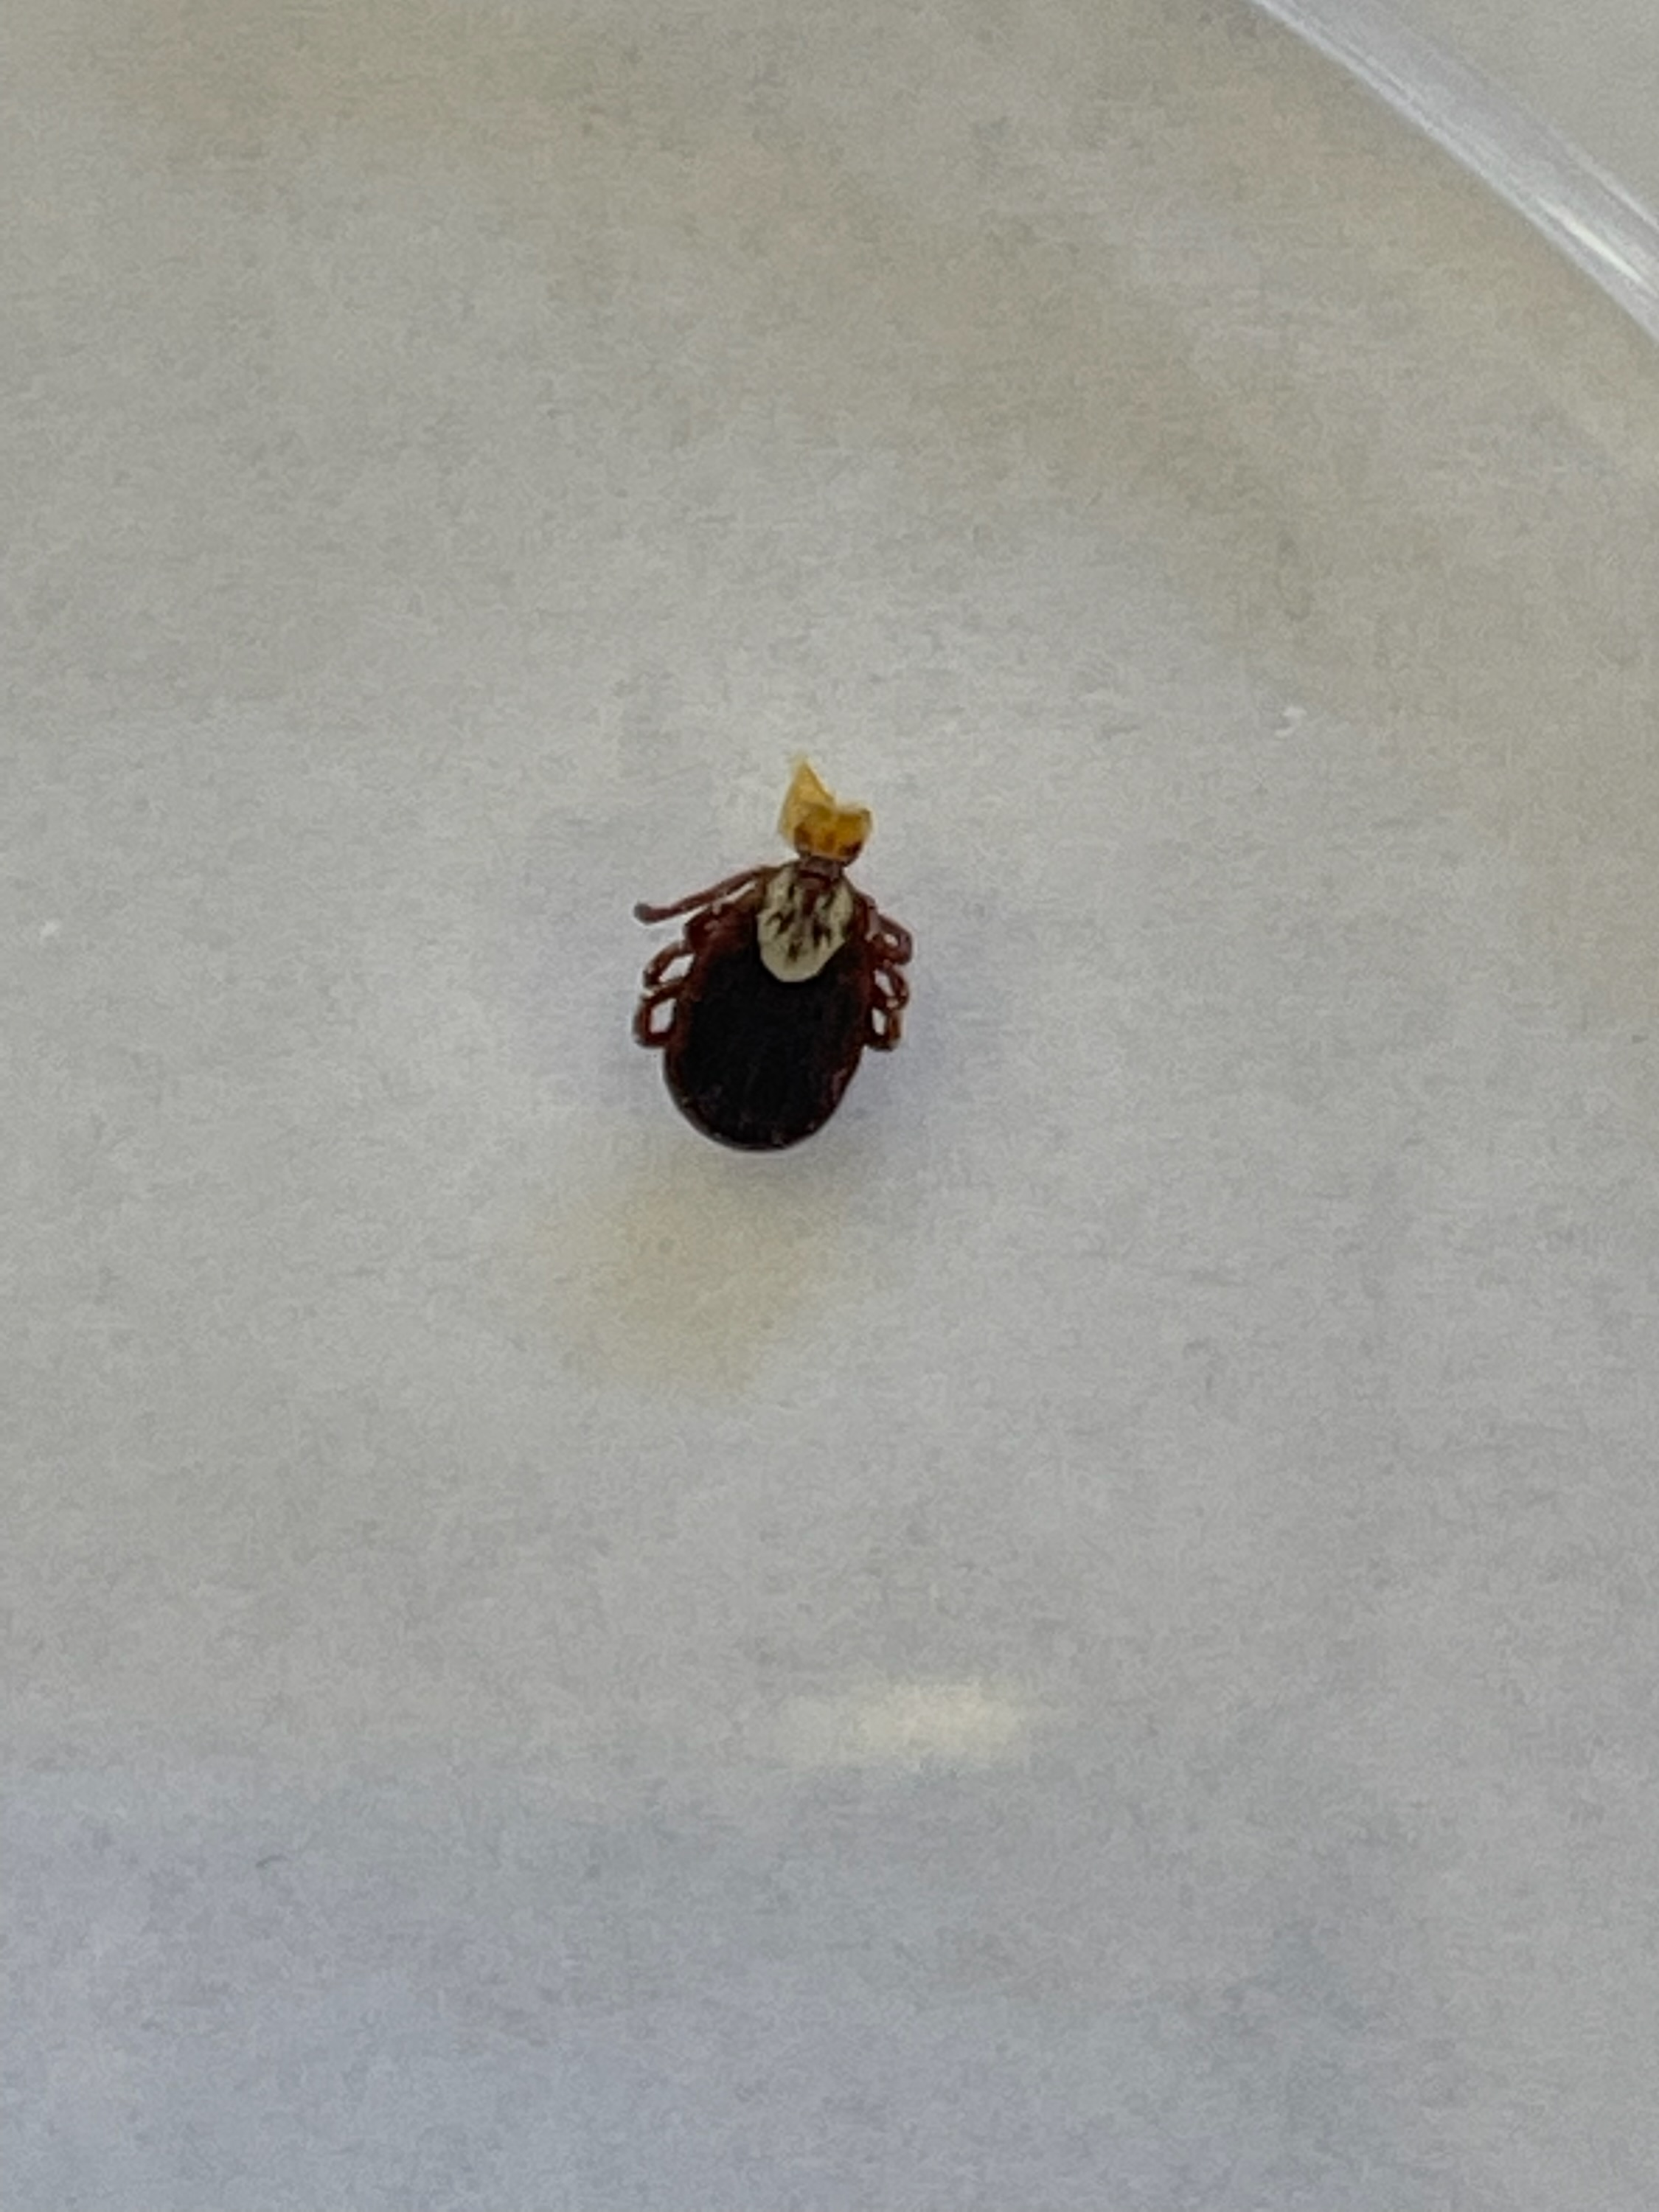unlabelled_tick: (613, 748, 942, 1167)
